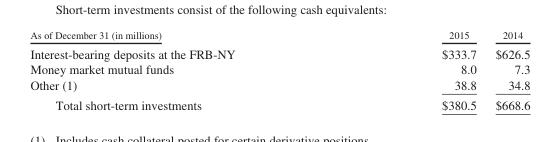table: (29, 28, 529, 111)
table column: (29, 28, 337, 111), (337, 28, 485, 111), (485, 28, 529, 111)
table column header: (29, 28, 529, 43)
table row: (29, 43, 529, 61), (29, 76, 529, 94), (29, 94, 529, 111), (29, 28, 529, 43), (29, 61, 529, 76)
